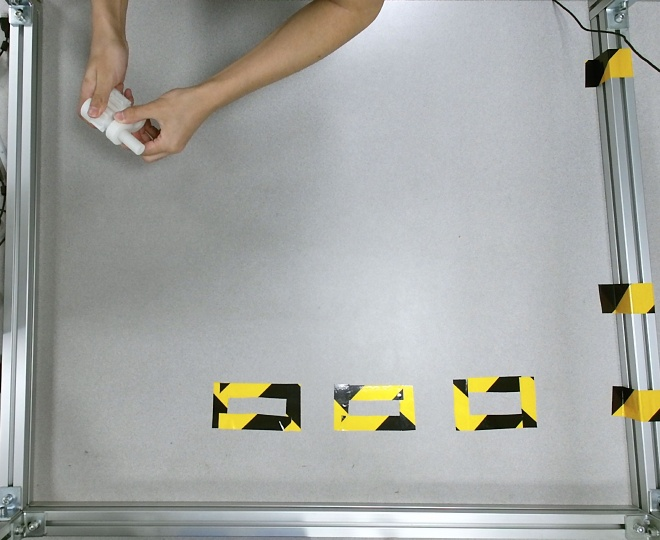stage_3: (80, 87, 145, 154)
